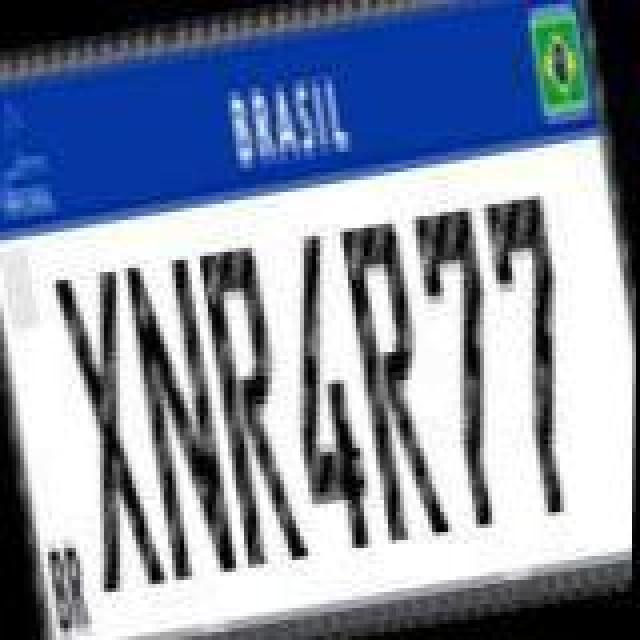4: (264, 224, 384, 560)
7: (480, 184, 600, 520), (408, 202, 528, 534)
N: (116, 248, 244, 584)
R: (190, 240, 314, 576), (334, 212, 458, 548)
X: (46, 264, 174, 600)
